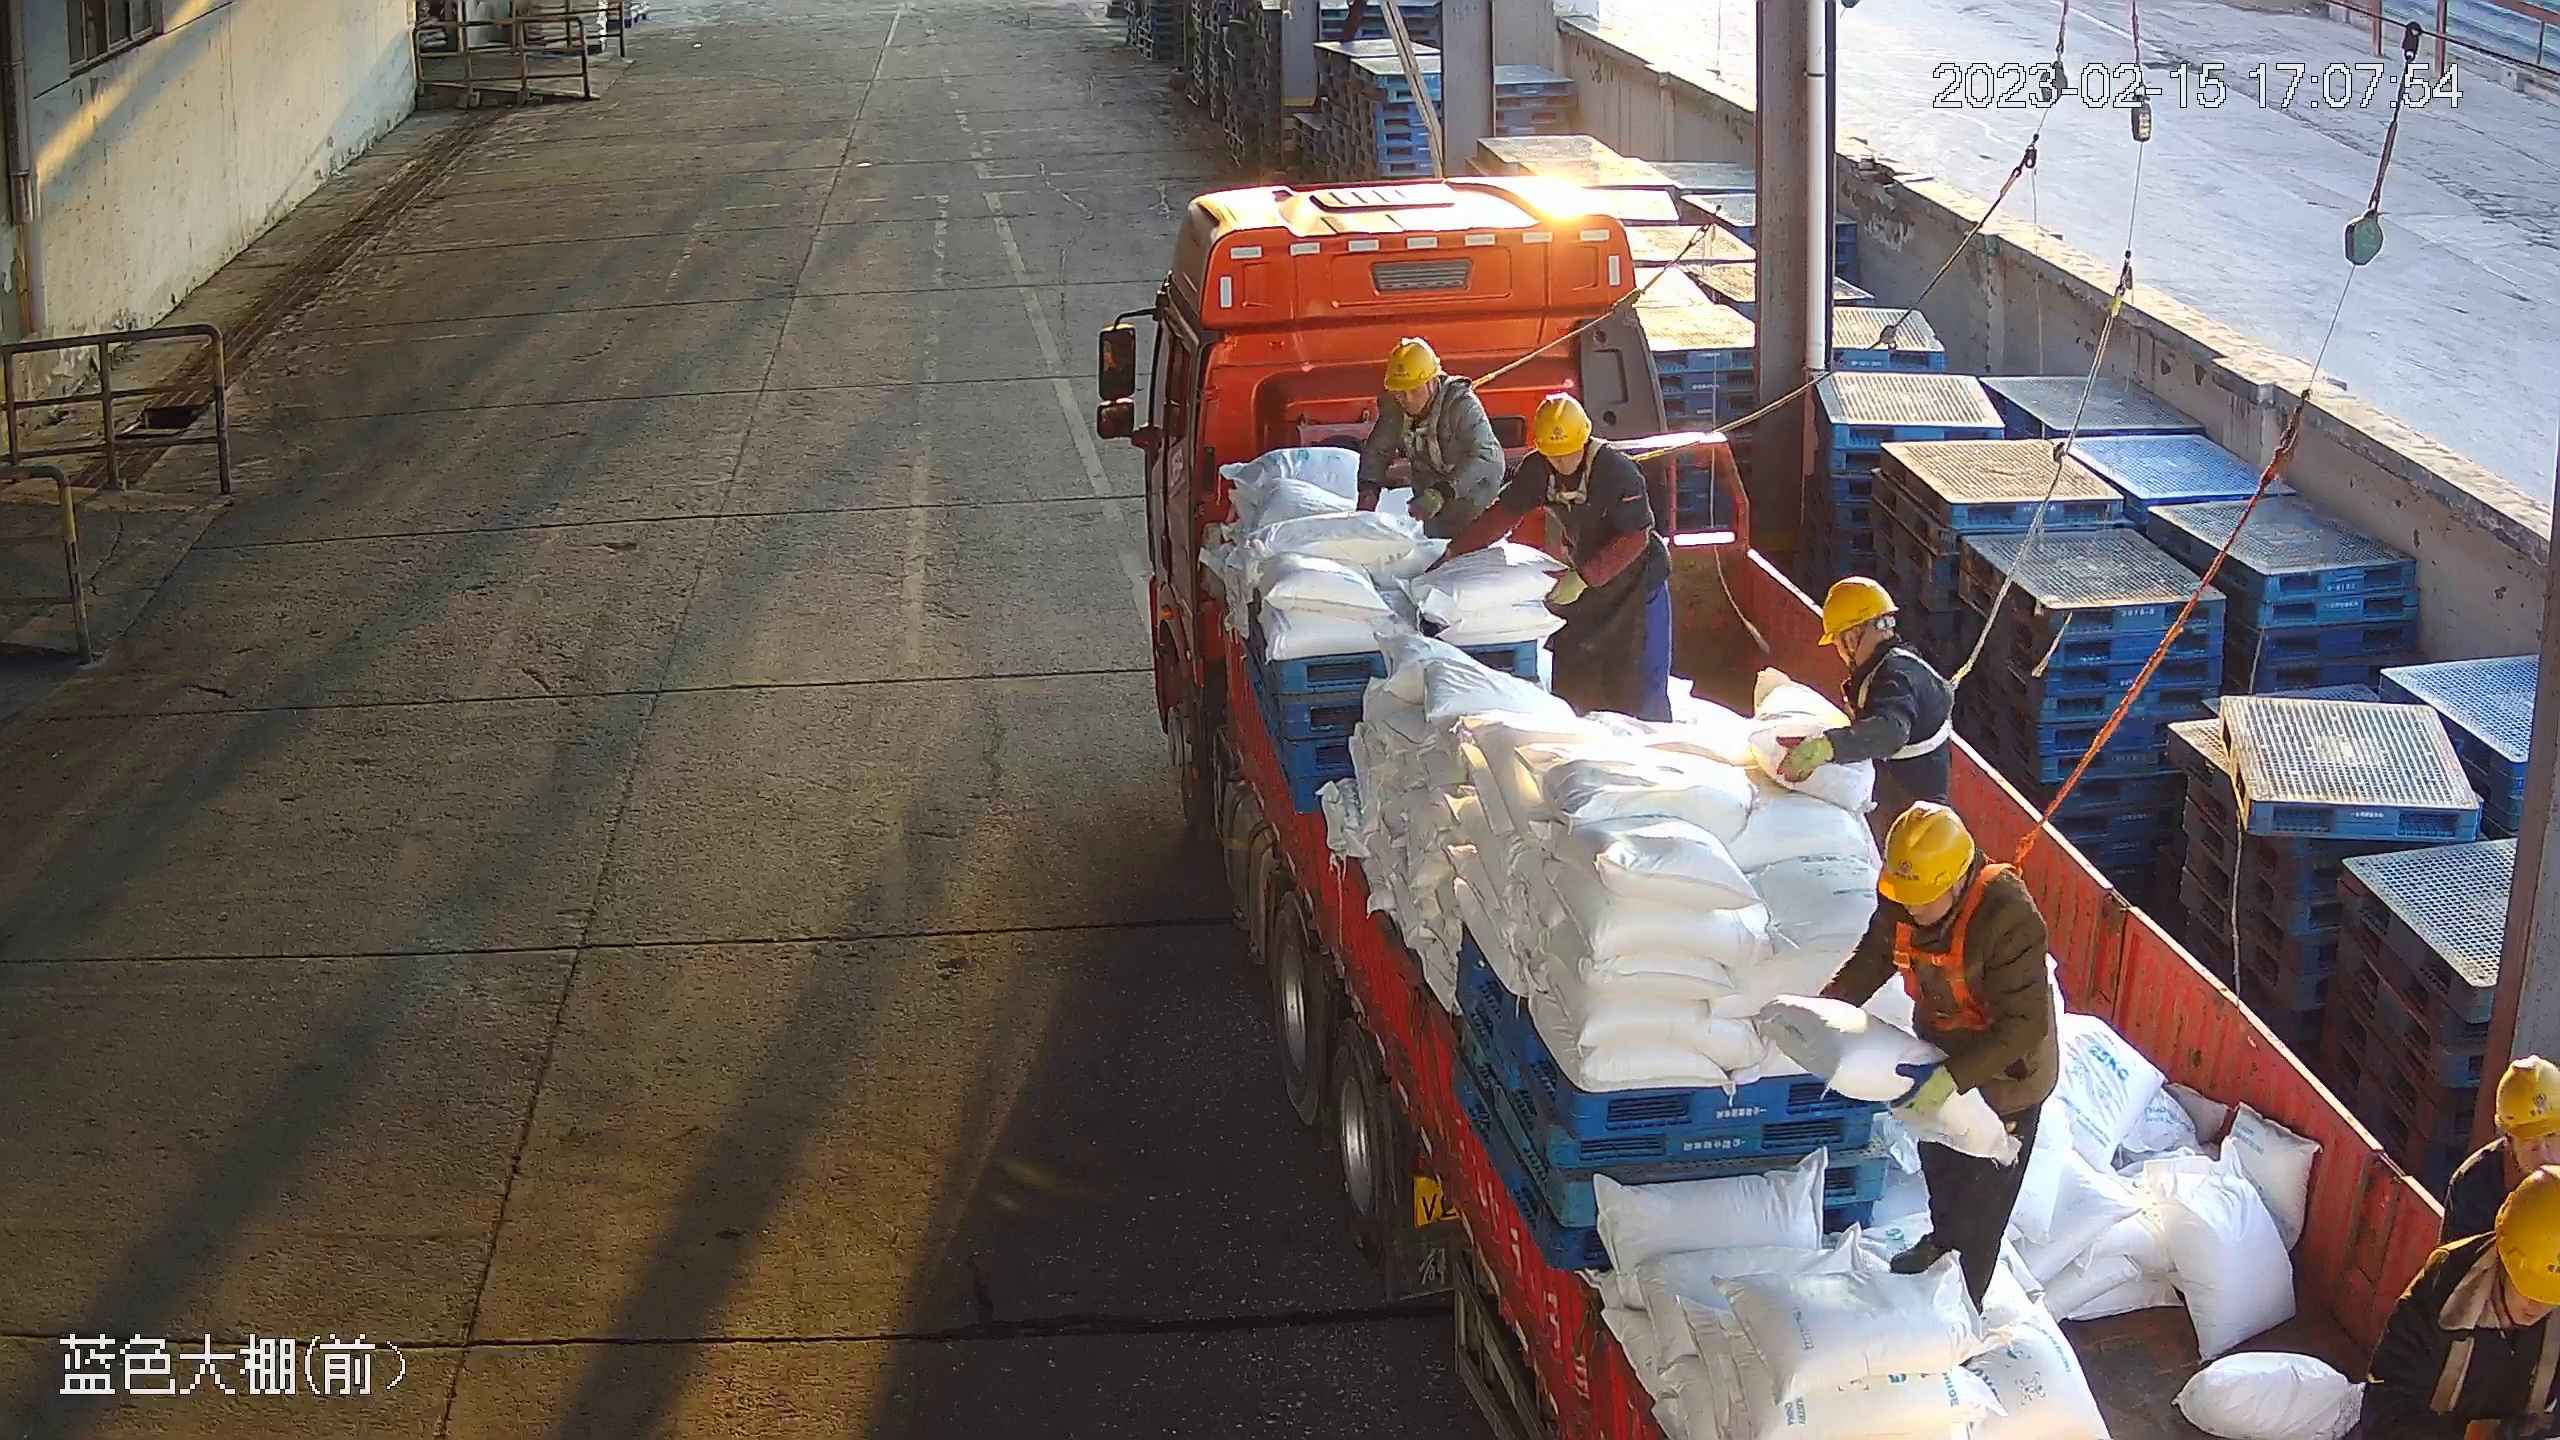belt: (1892, 915, 2009, 1037), (2432, 1329, 2558, 1422), (1863, 650, 1976, 755), (1393, 415, 1458, 474), (1541, 471, 1593, 506)
head: (2418, 1167, 2560, 1322), (1867, 802, 2016, 934), (1814, 572, 1937, 702), (2460, 1051, 2560, 1183), (1514, 392, 1630, 486), (1374, 336, 1472, 423)
helmet: (1876, 802, 1976, 904), (2497, 1164, 2560, 1302), (2495, 1053, 2560, 1141), (1813, 574, 1895, 641), (1532, 397, 1592, 458), (1379, 337, 1441, 390)
people: (1823, 802, 2056, 1323), (1455, 397, 1676, 727), (1351, 336, 1506, 553)
truck: (1090, 172, 2560, 1440)
